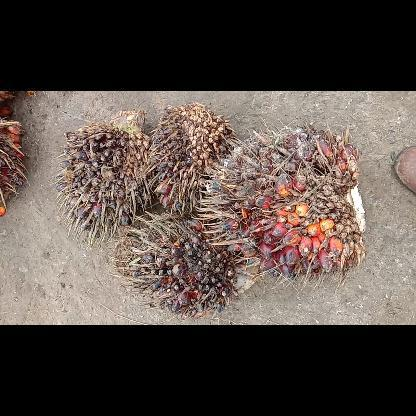TBS abnormal: (112, 212, 260, 317), (56, 110, 154, 232), (150, 100, 232, 216)
TBS masak: (198, 122, 366, 278)
